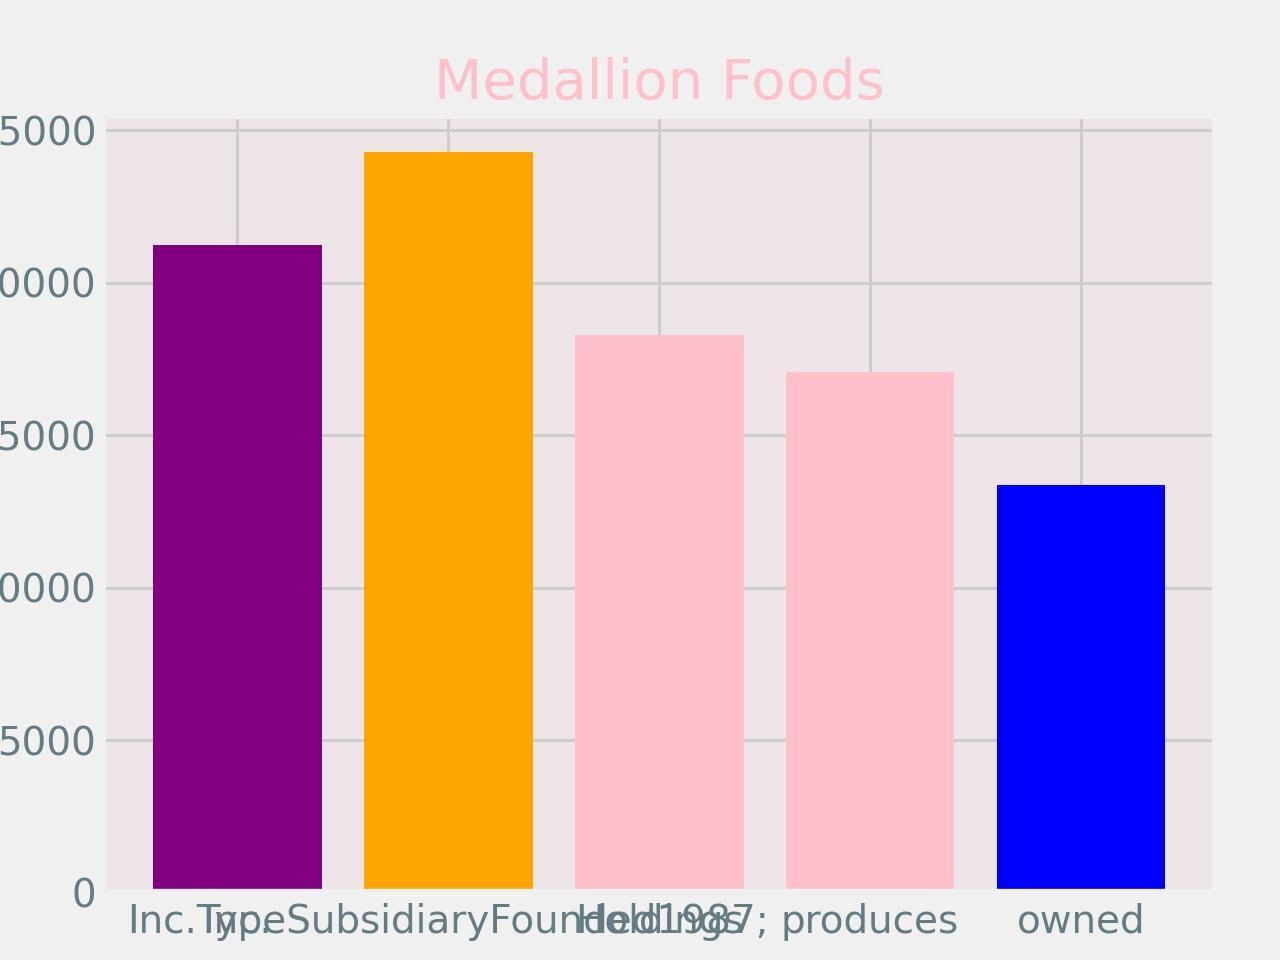axis: (0, 116, 96, 916)
rectangle: (364, 152, 533, 893), (153, 245, 322, 893), (574, 336, 744, 892), (785, 371, 954, 892), (997, 485, 1165, 893)
